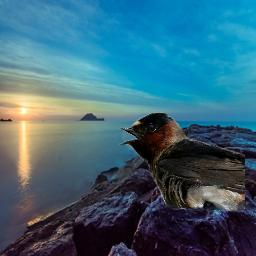Swallow: (118, 112, 245, 212)
